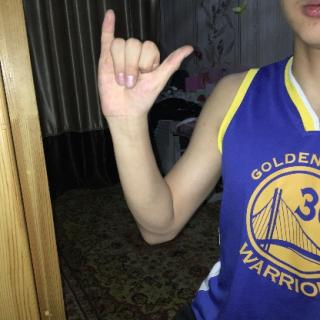YA: (95, 8, 197, 129)
